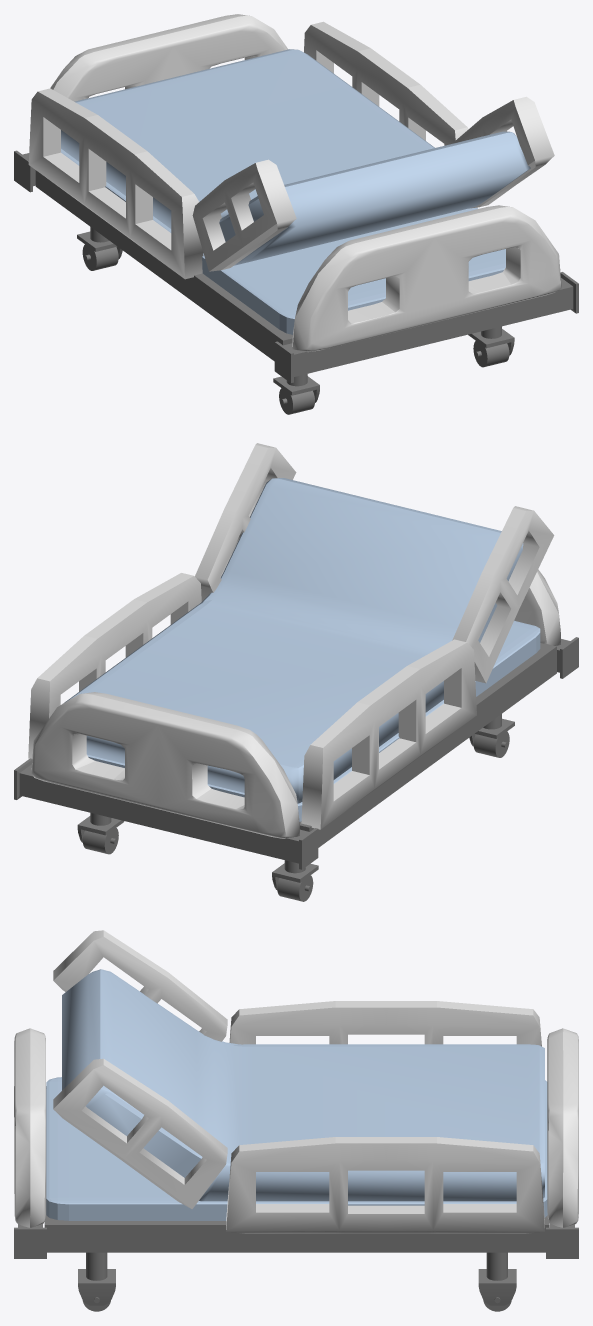
Rendered from hospitalbed 1.fbx.
3 renders of one model, top to bottom at view 1: azimuth 30°, elevation 25°; view 2: azimuth 150°, elevation 25°; view 3: azimuth 270°, elevation 25°, orthographic. The views are drawn at different scales.
Visible parts, largest first — view 1: Cube; view 2: Cube; view 3: Cube.
Part boxes in pixels (x1,y1,x2,y2): Cube: [14, 14, 578, 414]; Cube: [14, 443, 578, 901]; Cube: [14, 930, 578, 1311].
Size of the model in its own units: 1203 by 1003 by 1974.
